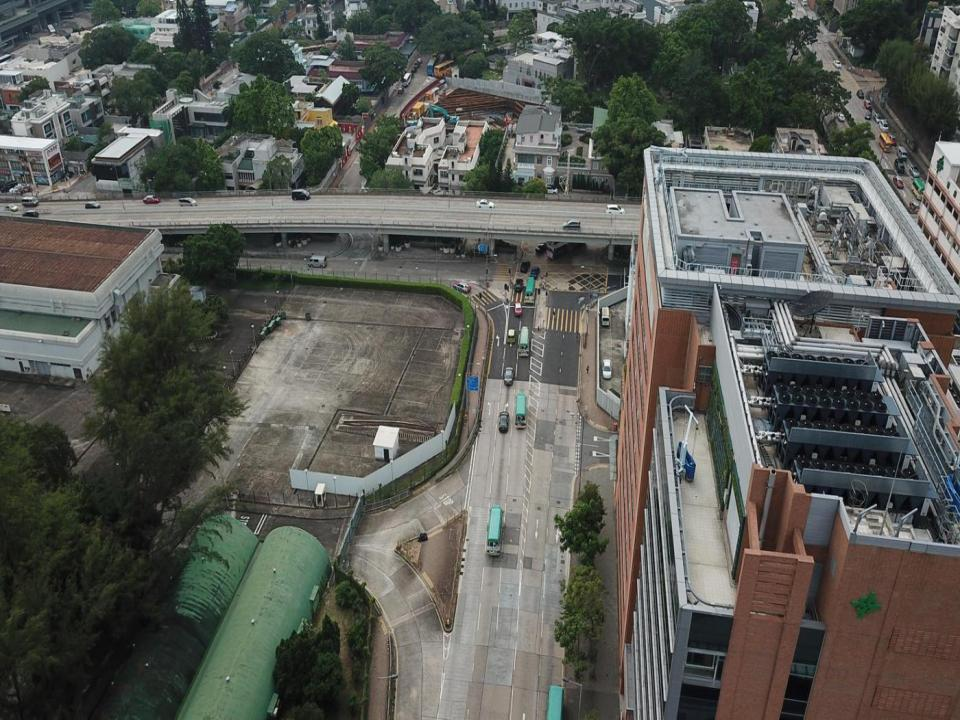bus: (546, 234, 587, 258), (485, 505, 502, 556), (545, 684, 564, 719), (515, 393, 526, 429), (517, 326, 529, 356), (524, 277, 535, 305)
car: (452, 280, 472, 294), (562, 218, 581, 232), (606, 204, 625, 216), (499, 410, 508, 433), (603, 359, 612, 379), (142, 194, 160, 204), (22, 209, 38, 220), (84, 201, 101, 211), (504, 368, 513, 386), (507, 328, 516, 344), (520, 260, 530, 274), (3, 203, 18, 212), (475, 200, 494, 207), (530, 266, 540, 279), (544, 184, 557, 194), (514, 301, 522, 316), (514, 278, 523, 291), (535, 243, 546, 252), (413, 60, 419, 70), (398, 88, 404, 95), (416, 57, 422, 64), (411, 65, 415, 73)
van: (308, 255, 326, 269), (179, 195, 196, 208), (292, 189, 311, 200), (602, 306, 610, 326), (22, 196, 38, 206), (402, 71, 412, 87)
